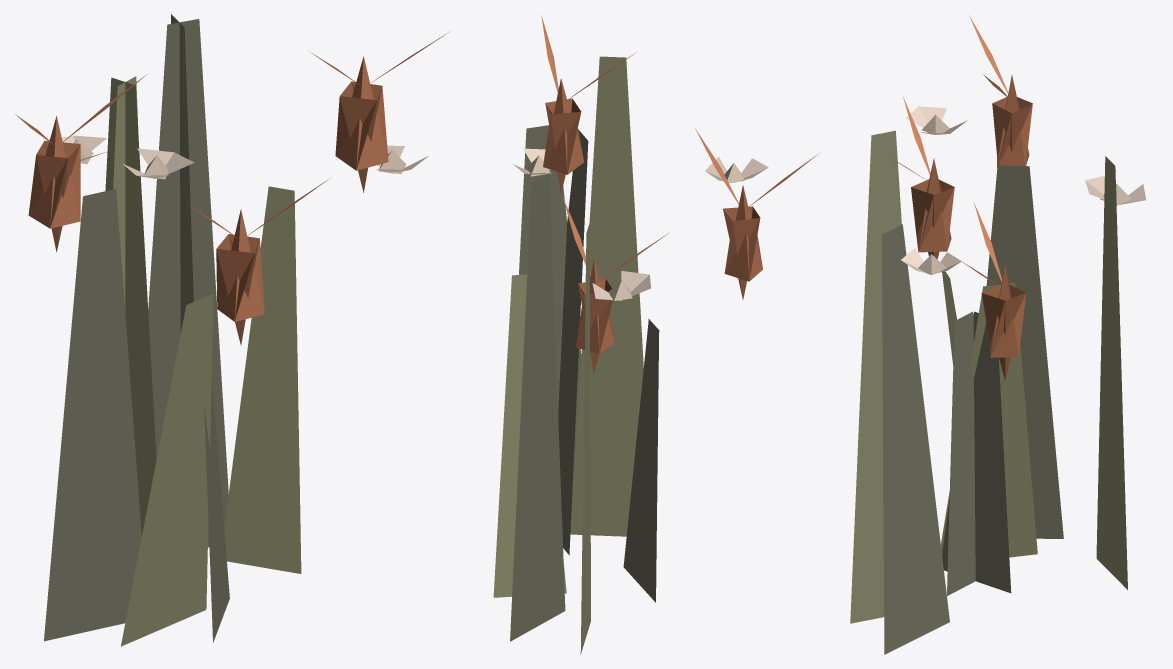
File: nong.dao__winter.glb
3 renders of one model, left to right at view 1: azimuth 30°, elevation 25°; view 2: azimuth 150°, elevation 25°; view 3: azimuth 270°, elevation 25°, orthographic. The views are drawn at different scales.
Visible parts, largest first — view 1: nong.dao__winter; view 2: nong.dao__winter; view 3: nong.dao__winter.
Boxes of the visible parts, bbox=[...] form: nong.dao__winter: bbox=[15, 14, 448, 646]; nong.dao__winter: bbox=[493, 15, 819, 654]; nong.dao__winter: bbox=[850, 15, 1146, 654].
Size of the model in its own units: 0.7368 by 1.07 by 0.5942.
